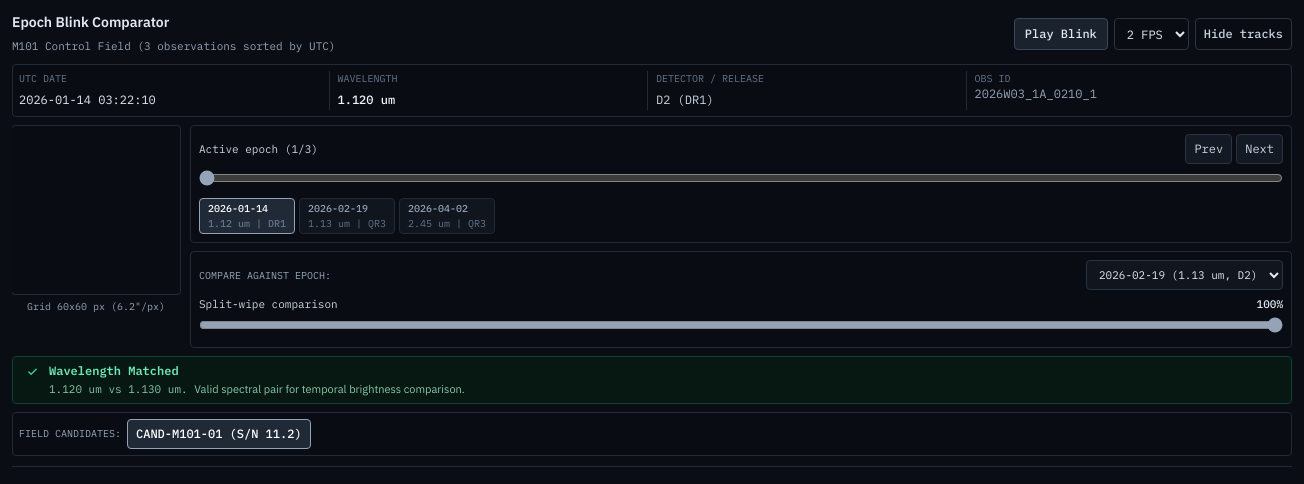
Test: Tier 1 — Feature Coverage (F1-F18 Happy Path) › F8, F9, F10, F11: renders pixelated 2D Blink Comparator canvas, playback FPS controls, epoch stepping, and split-wipe slider
This screenshot has width=1304, height=484.
Check: the drawing is shown, box 14,128 -> 178,292
Check: the text "2026-01-14 03:22:10" is shown, box 19,92 -> 156,107
Select "4 FPS" in the dropdown named "Blink speed" at (1151, 34), box 1114,18 -> 1189,50
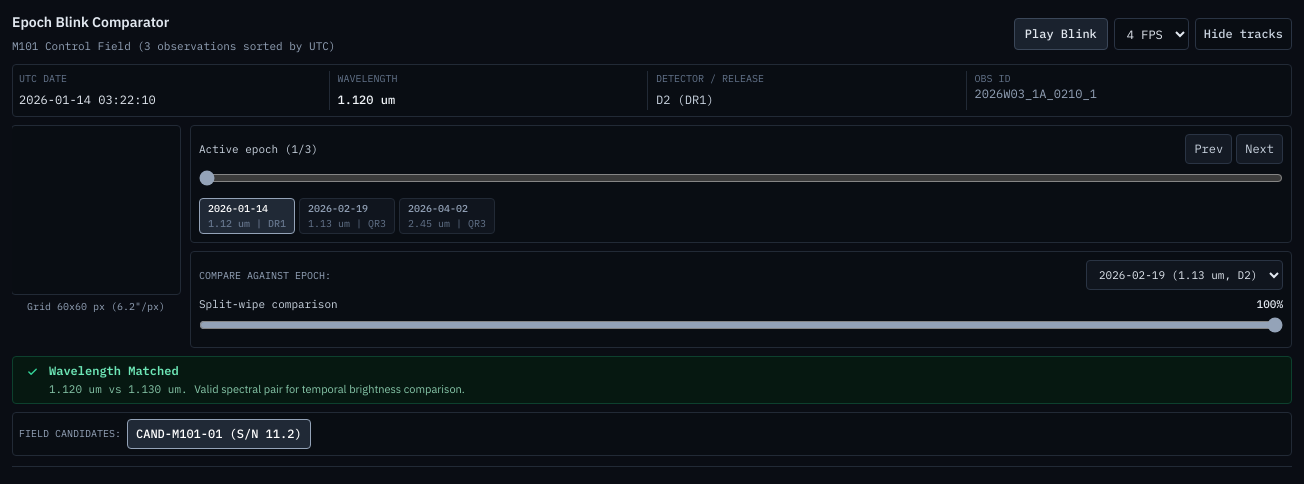
Click the button "Play Blink" at (1061, 34), box 1014,18 -> 1108,50
Wait 260 ms
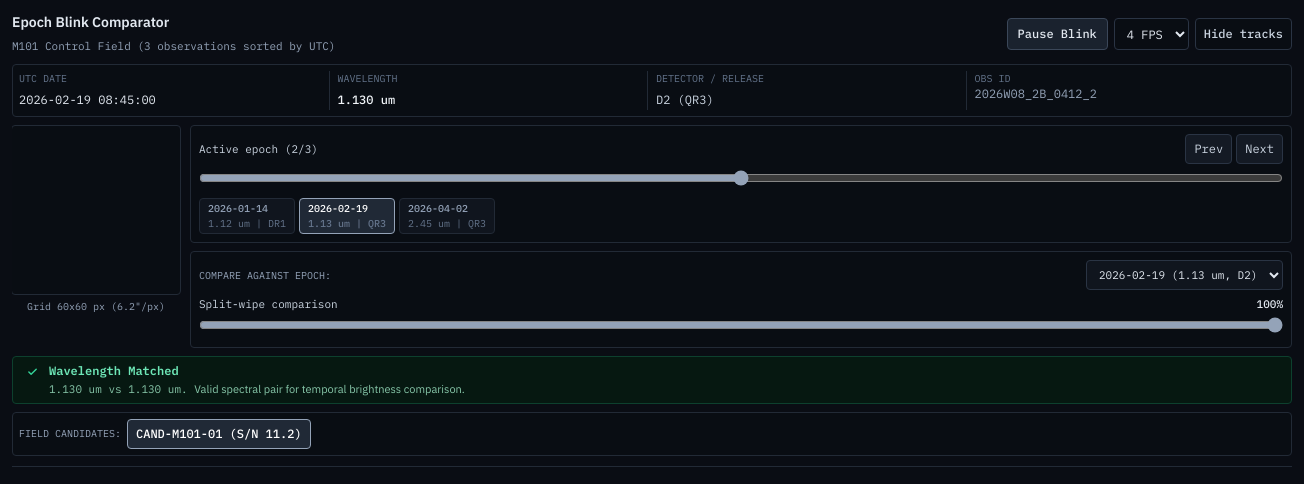
Check: the button "Pause Blink" is shown, box 1007,18 -> 1108,50
Check: the text "Active epoch (2/3)" is shown, box 199,141 -> 318,157
// F10: Manual Next/Prev buttons, epoch chips, and ArrowLeft/ArrowRight keyboard stepping
Click the button with aria-label "Next epoch" at (1260, 149), box 1236,134 -> 1283,164
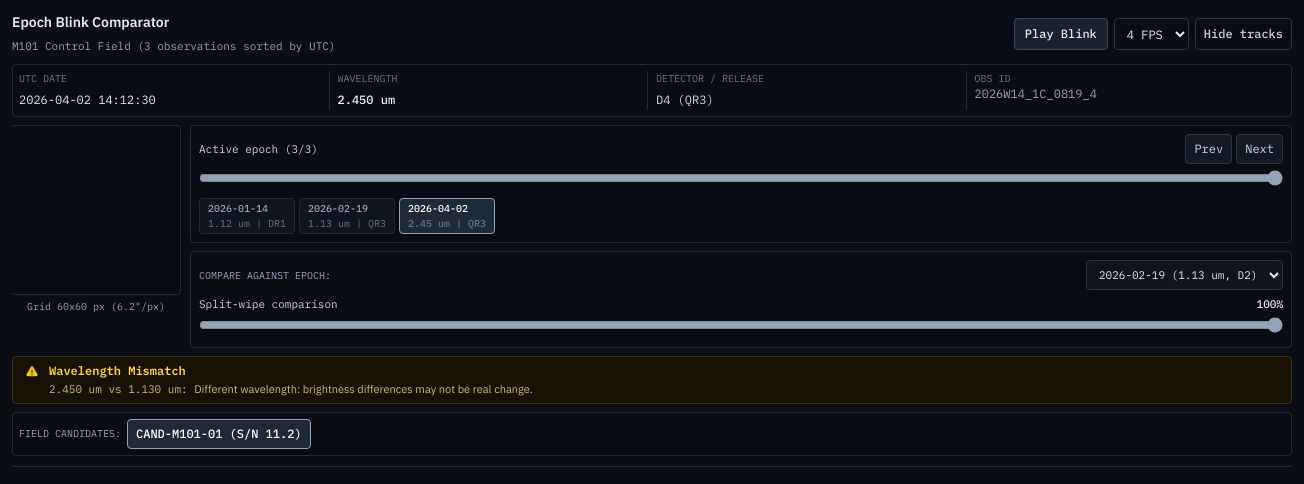
Check: the text "Active epoch (3/3)" is shown, box 199,141 -> 318,157
Check: the button "Play Blink" is shown, box 1014,18 -> 1108,50
Press ArrowLeft in the element "Epoch Blink Comparator"
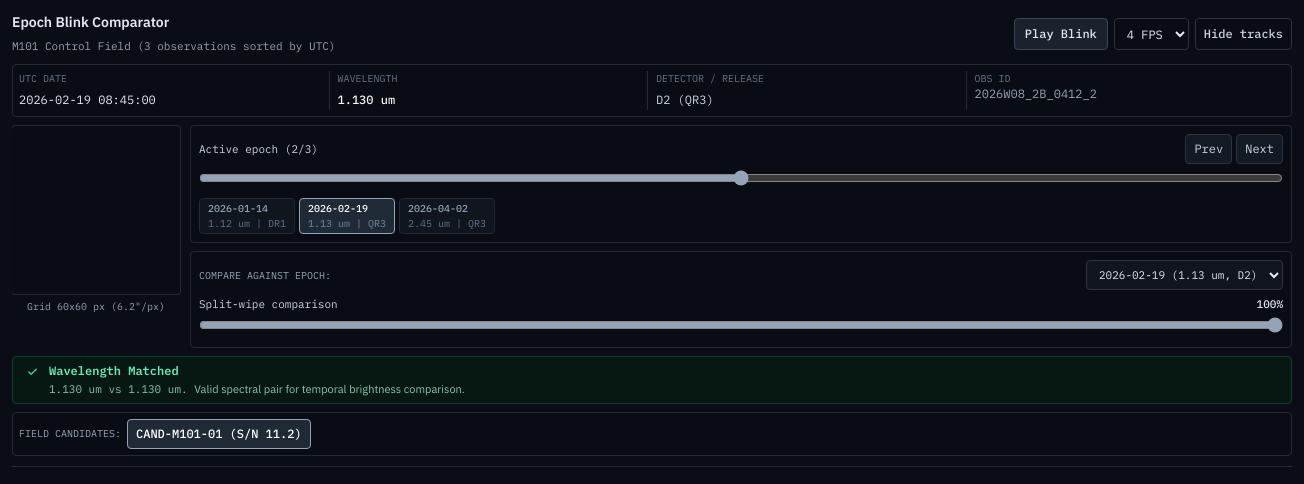
Check: the text "Active epoch (2/3)" is shown, box 199,141 -> 318,157
Press ArrowRight in the element "Epoch Blink Comparator"
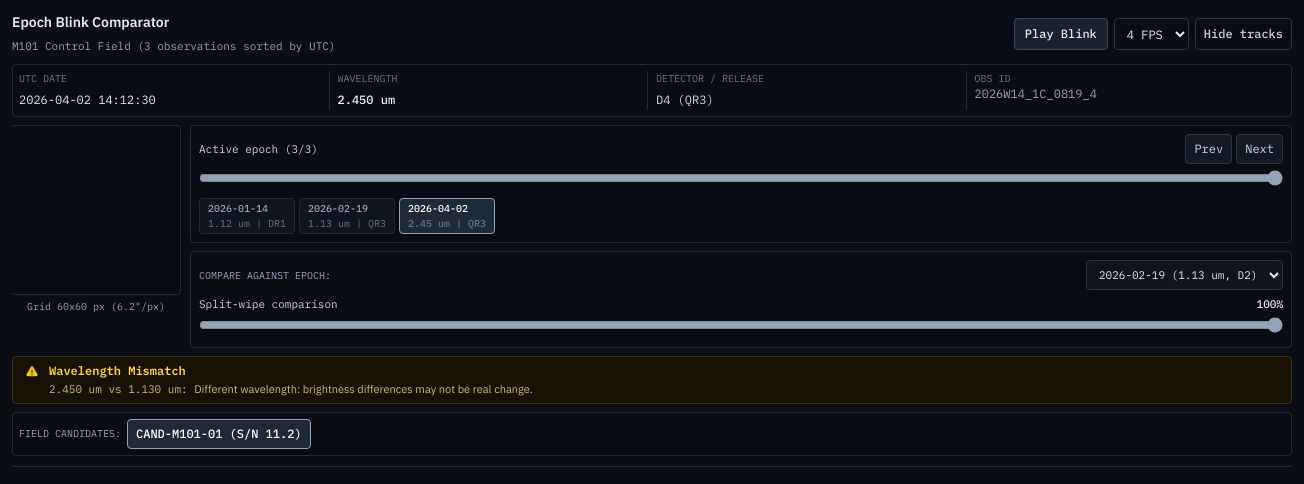
Check: the text "Active epoch (3/3)" is shown, box 199,141 -> 318,157
Set the slider labelled "Split-wipe comparison" to "50" at (741, 324), box 199,316 -> 1283,332
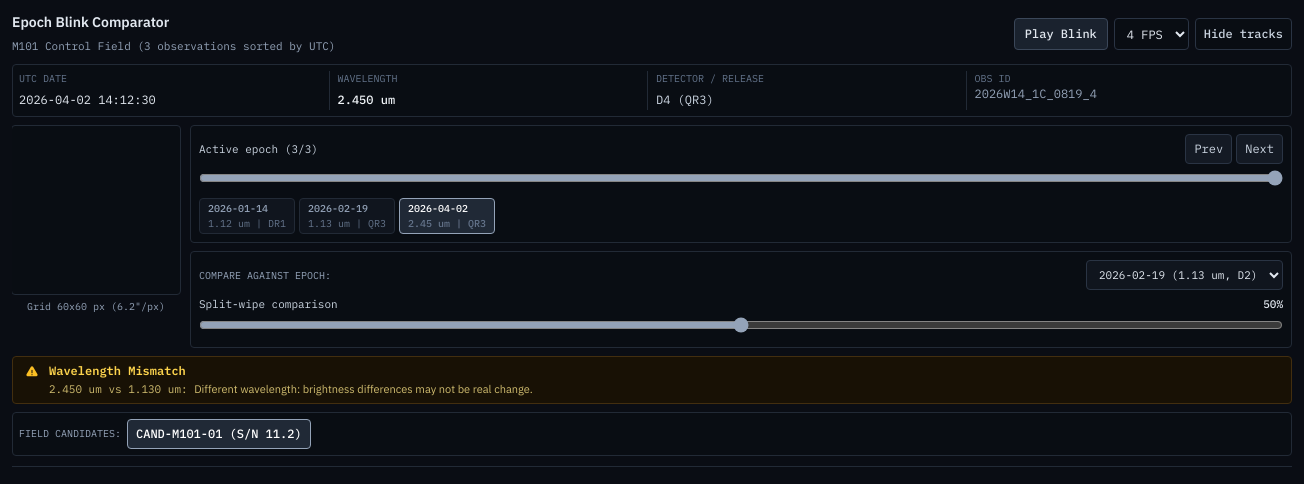
Check: the text "50%" is shown, box 1263,296 -> 1283,312
